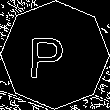P_N: (36, 29, 74, 81)
